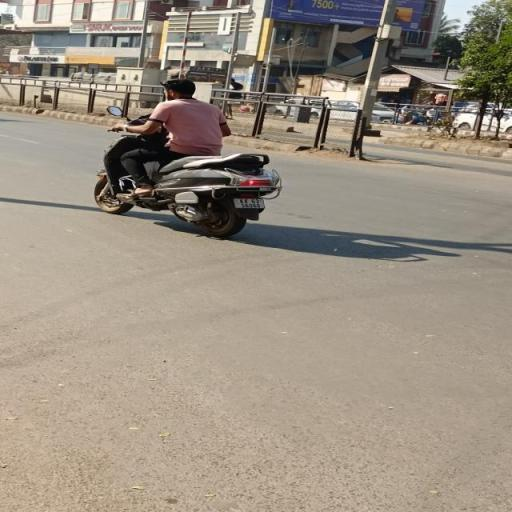bike: (86, 74, 292, 240)
numberplate: (232, 197, 266, 209)
withouthelmet: (164, 80, 196, 100)
